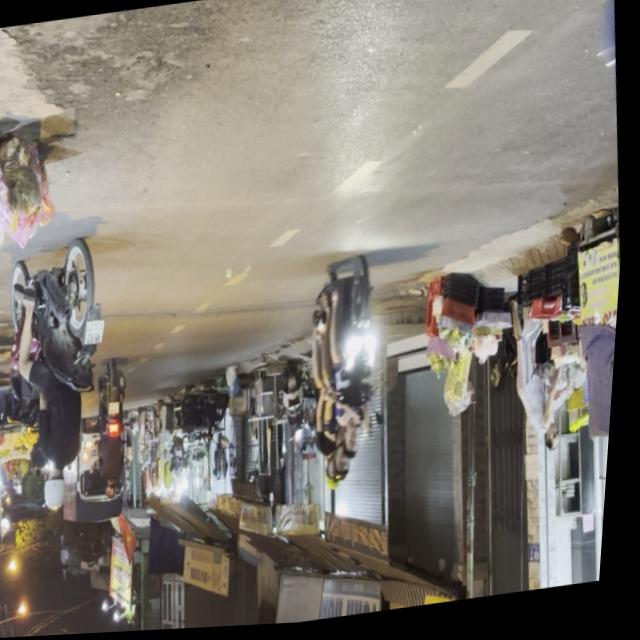helmet: (47, 470, 76, 513), (332, 452, 358, 493)
licenseplate: (0, 234, 130, 521), (297, 252, 405, 498)
motorcyclist: (346, 430, 367, 464)
nohelmet: (87, 320, 110, 347)
